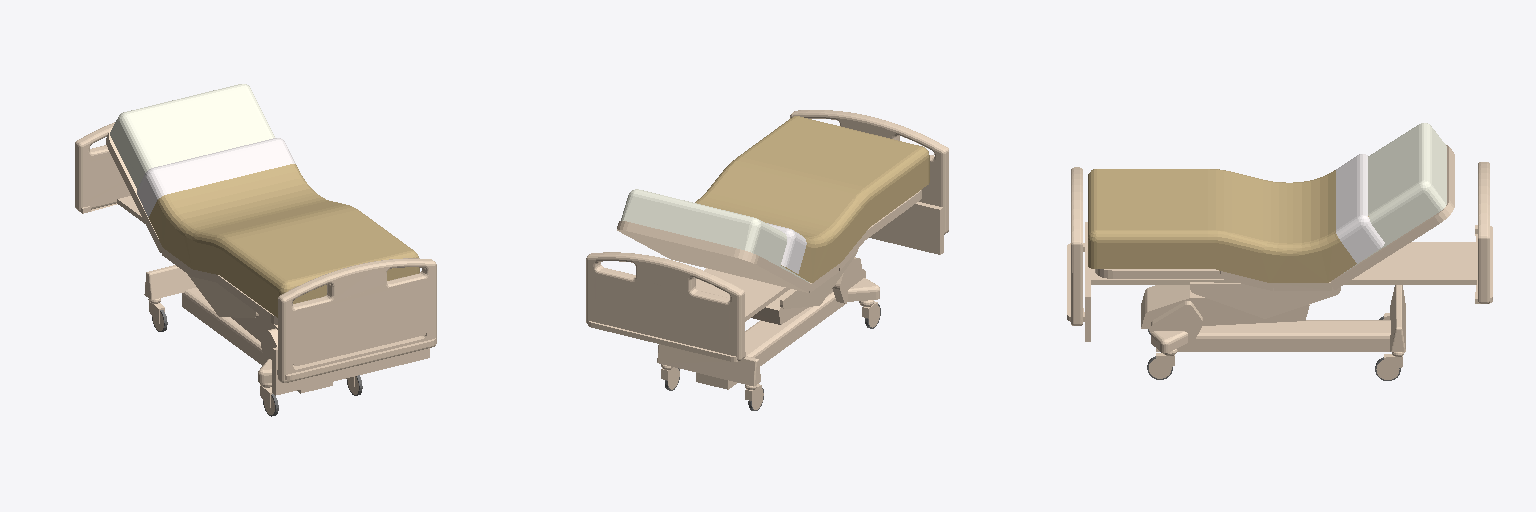
Rendered from hospitalBed.obj.
The picture shows the model from 3 angles: view 1: azimuth 30°, elevation 25°; view 2: azimuth 150°, elevation 25°; view 3: azimuth 270°, elevation 25°; orthographic projection.
Visible parts, largest first — view 1: Mesh39 Mattress_1_1 Group1 Model, Mesh27 Mattress1 Group1 Model, Mesh32 Head_Board1 Group1 Model, Mesh28 Head_Board1 Group1 Model, Mesh29 Head_Board1 Group1 Model, Mesh36 Frame06_1 Group1 Model, Mesh22 Frame02_1 Group1 Model, Mesh20 Frame03_1 Group1 Model, Mesh35 Frame06_1 Group1 Model, Mesh30 Head_Board1 Group1 Model, Mesh26 Frame01_1 Group1 Model, Mesh23 Frame01_1 Group1 Model (+1 smaller); view 2: Mesh39 Mattress_1_1 Group1 Model, Mesh29 Head_Board1 Group1 Model, Mesh27 Mattress1 Group1 Model, Mesh26 Frame01_1 Group1 Model, Mesh28 Head_Board1 Group1 Model, Mesh36 Frame06_1 Group1 Model, Mesh22 Frame02_1 Group1 Model, Mesh35 Frame06_1 Group1 Model, Mesh21 Frame02_1 Group1 Model, Mesh20 Frame03_1 Group1 Model, Mesh31 Head_Board1 Group1 Model, Mesh17 Frame04_1 Group1 Model (+3 smaller); view 3: Mesh39 Mattress_1_1 Group1 Model, Mesh27 Mattress1 Group1 Model, Mesh36 Frame06_1 Group1 Model, Mesh21 Frame02_1 Group1 Model, Mesh17 Frame04_1 Group1 Model, Mesh19 Frame03_1 Group1 Model, Mesh28 Head_Board1 Group1 Model, Mesh26 Frame01_1 Group1 Model, Mesh29 Head_Board1 Group1 Model, Mesh23 Frame01_1 Group1 Model, Mesh38 Frame06_1 Group1 Model, Mesh35 Frame06_1 Group1 Model (+2 smaller).
Part boxes in pixels (x1,y1,x2,y2): Mesh39 Mattress_1_1 Group1 Model: (137, 138, 419, 317); Mesh27 Mattress1 Group1 Model: (110, 84, 274, 188); Mesh32 Head_Board1 Group1 Model: (293, 279, 426, 365); Mesh28 Head_Board1 Group1 Model: (278, 258, 436, 382); Mesh29 Head_Board1 Group1 Model: (75, 122, 130, 211); Mesh36 Frame06_1 Group1 Model: (182, 288, 332, 393); Mesh22 Frame02_1 Group1 Model: (272, 347, 429, 395); Mesh20 Frame03_1 Group1 Model: (188, 275, 258, 317); Mesh35 Frame06_1 Group1 Model: (144, 265, 196, 299); Mesh30 Head_Board1 Group1 Model: (277, 338, 435, 380); Mesh26 Frame01_1 Group1 Model: (106, 128, 161, 252); Mesh23 Frame01_1 Group1 Model: (217, 275, 277, 324); Mesh39 Mattress_1_1 Group1 Model: (695, 116, 929, 282); Mesh29 Head_Board1 Group1 Model: (586, 252, 744, 360); Mesh27 Mattress1 Group1 Model: (621, 189, 808, 282); Mesh26 Frame01_1 Group1 Model: (617, 221, 809, 292); Mesh28 Head_Board1 Group1 Model: (790, 110, 948, 234); Mesh36 Frame06_1 Group1 Model: (696, 292, 846, 389); Mesh22 Frame02_1 Group1 Model: (869, 202, 943, 254); Mesh35 Frame06_1 Group1 Model: (657, 344, 760, 386); Mesh21 Frame02_1 Group1 Model: (696, 269, 789, 321); Mesh20 Frame03_1 Group1 Model: (780, 250, 857, 308); Mesh31 Head_Board1 Group1 Model: (588, 321, 745, 361); Mesh17 Frame04_1 Group1 Model: (751, 257, 861, 324); Mesh39 Mattress_1_1 Group1 Model: (1088, 154, 1384, 282); Mesh27 Mattress1 Group1 Model: (1344, 123, 1446, 272); Mesh36 Frame06_1 Group1 Model: (1156, 320, 1390, 351); Mesh21 Frame02_1 Group1 Model: (1091, 242, 1477, 284); Mesh17 Frame04_1 Group1 Model: (1141, 285, 1309, 328); Mesh19 Frame03_1 Group1 Model: (1190, 282, 1340, 318); Mesh28 Head_Board1 Group1 Model: (1071, 167, 1082, 325); Mesh26 Frame01_1 Group1 Model: (1330, 145, 1454, 289); Mesh29 Head_Board1 Group1 Model: (1478, 162, 1489, 303); Mesh23 Frame01_1 Group1 Model: (1095, 269, 1219, 278); Mesh38 Frame06_1 Group1 Model: (1151, 301, 1202, 342); Mesh35 Frame06_1 Group1 Model: (1390, 285, 1405, 351).
Bounding box in the file's own units: 37.66 × 48.19 × 89.05.